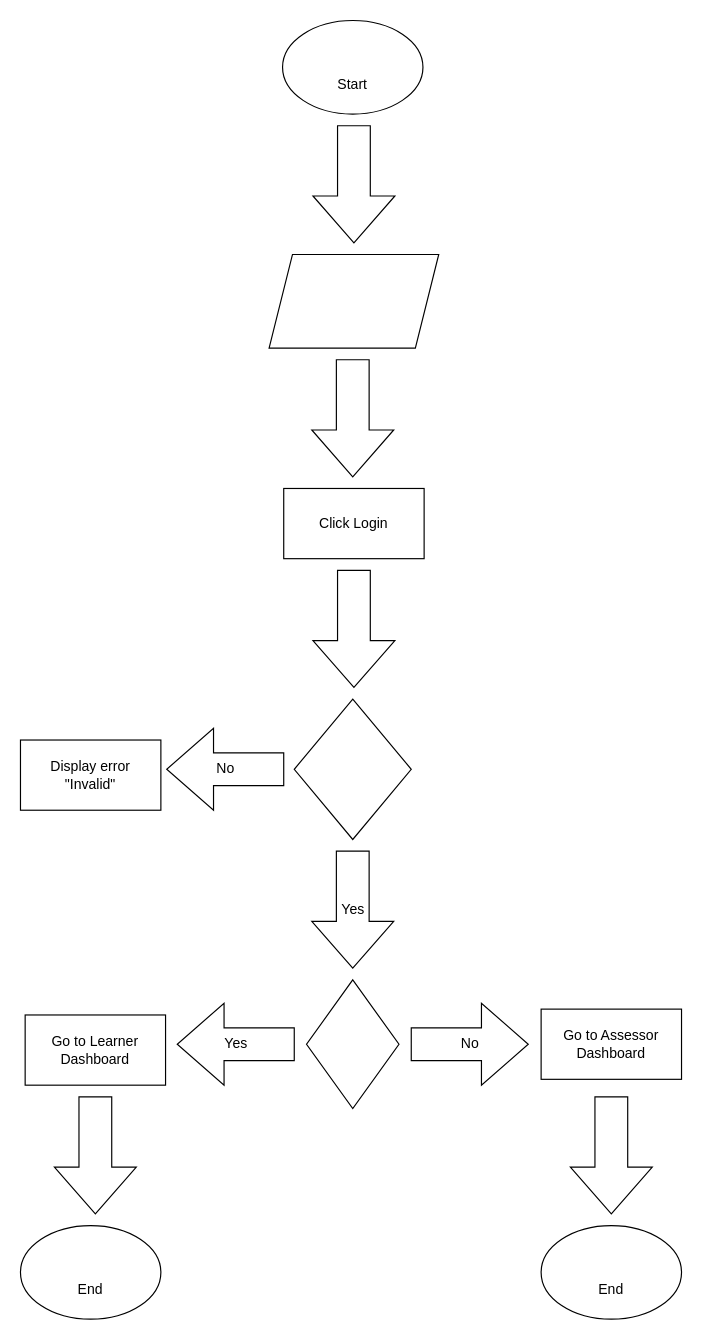
This 702x1340 diagram has some shape labels left out. The centre of each missing label's shape, as x and y in pixels:
Role : Learner?: the point at 352,1044
Select Roles : Learner/Assessor: the point at 353,300
Valid credincials?: the point at 352,768
